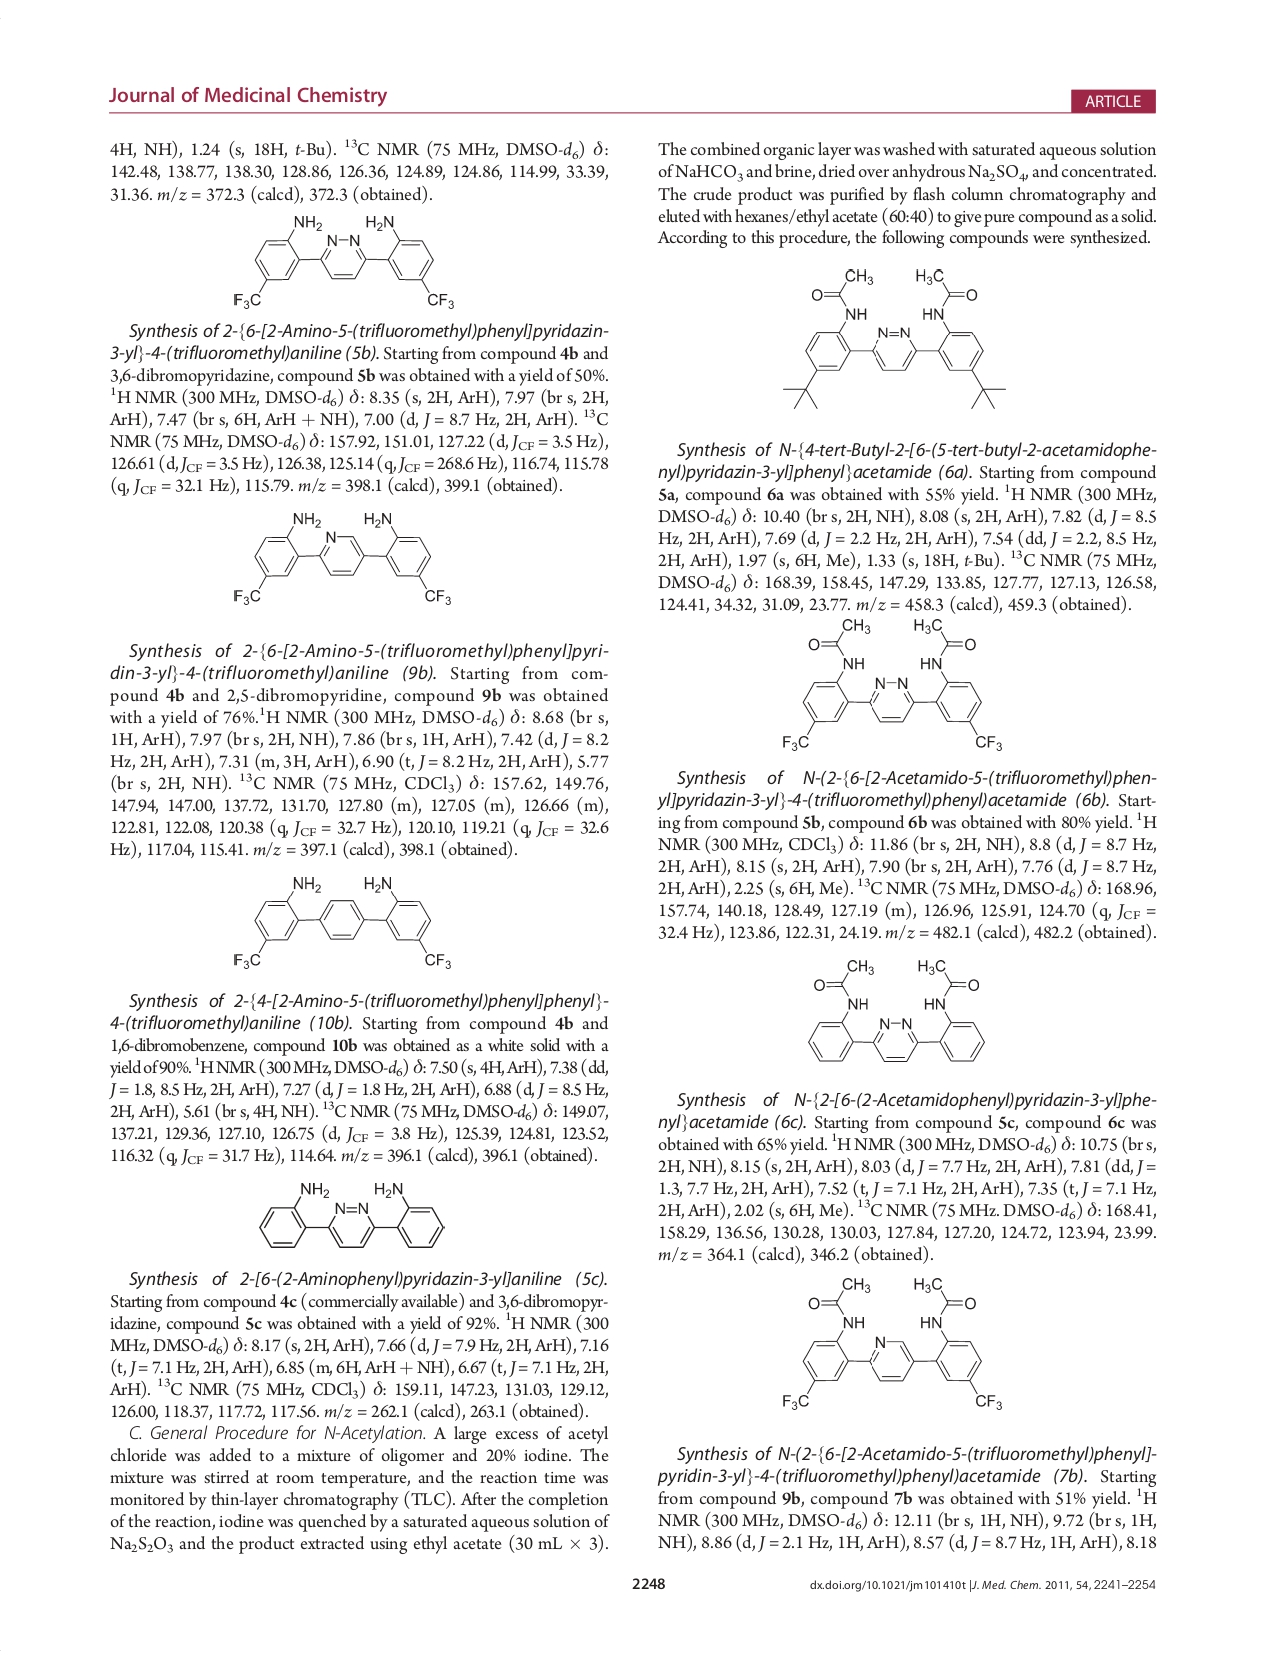exist_molecular: (779, 265, 1009, 415), (774, 614, 1001, 755), (779, 1273, 1005, 1414), (229, 868, 457, 977), (225, 507, 457, 610), (227, 211, 457, 313), (802, 950, 989, 1068), (257, 1177, 445, 1255)
